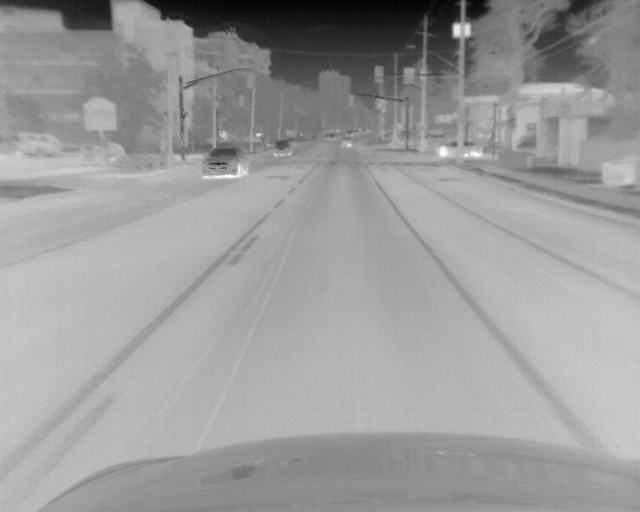car: (201, 146, 250, 180), (11, 130, 59, 155), (435, 140, 485, 159), (273, 139, 294, 158), (340, 137, 354, 149), (325, 133, 337, 141)
